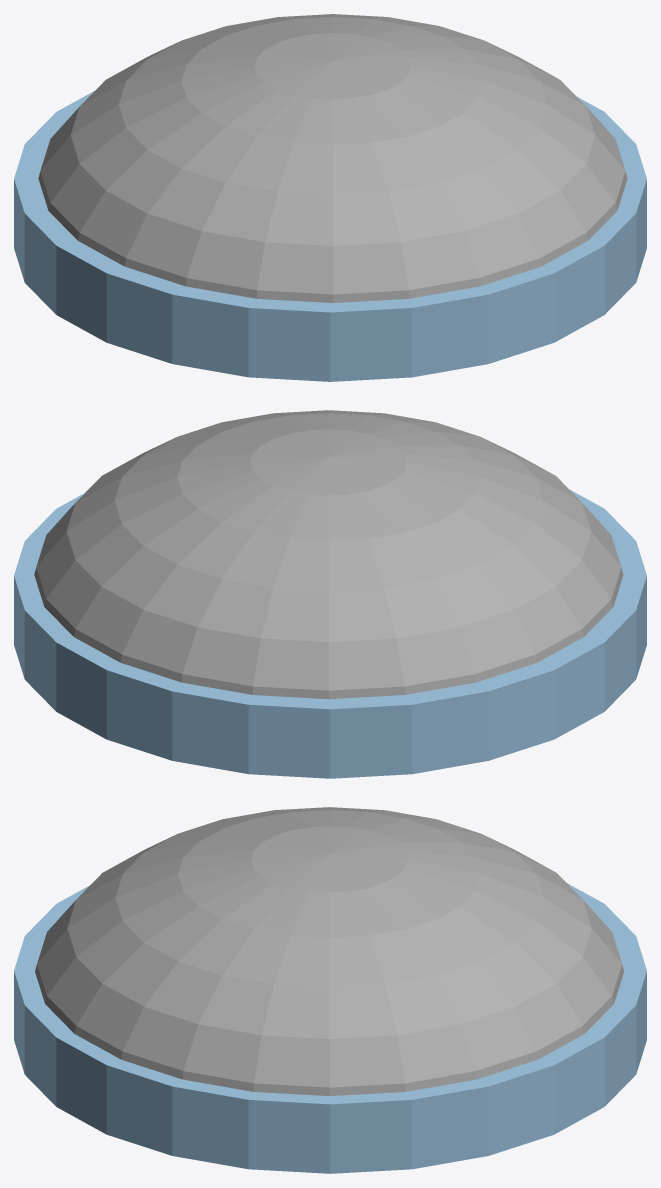
The model's file is Luke1_2.fbx.
3 renders of one model, top to bottom at view 1: azimuth 30°, elevation 25°; view 2: azimuth 150°, elevation 25°; view 3: azimuth 270°, elevation 25°, orthographic.
Visible parts, largest first — view 1: Cylinder_3; view 2: Cylinder_3; view 3: Cylinder_3.
Part boxes in pixels (box(x1,y1,x2,y2)): Cylinder_3: box(14, 14, 646, 381); Cylinder_3: box(14, 410, 646, 778); Cylinder_3: box(14, 807, 646, 1173).
Size of the model in its own units: 120 by 39.17 by 120.
